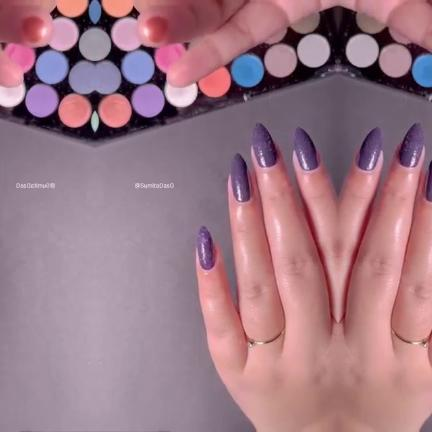Nail: (251, 121, 277, 168), (397, 121, 423, 168), (293, 126, 318, 171), (356, 126, 381, 171), (229, 152, 251, 203), (196, 224, 214, 271), (423, 158, 432, 203)
